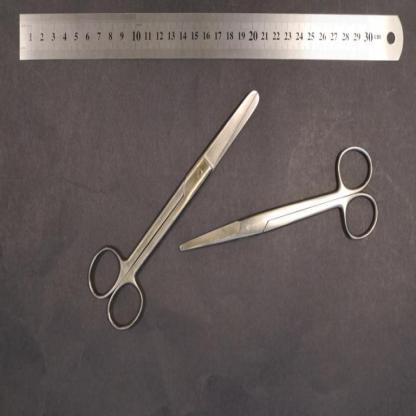Curved Mayo Scissors: (179, 144, 379, 252)
Dressing Scissors: (86, 89, 260, 335)
